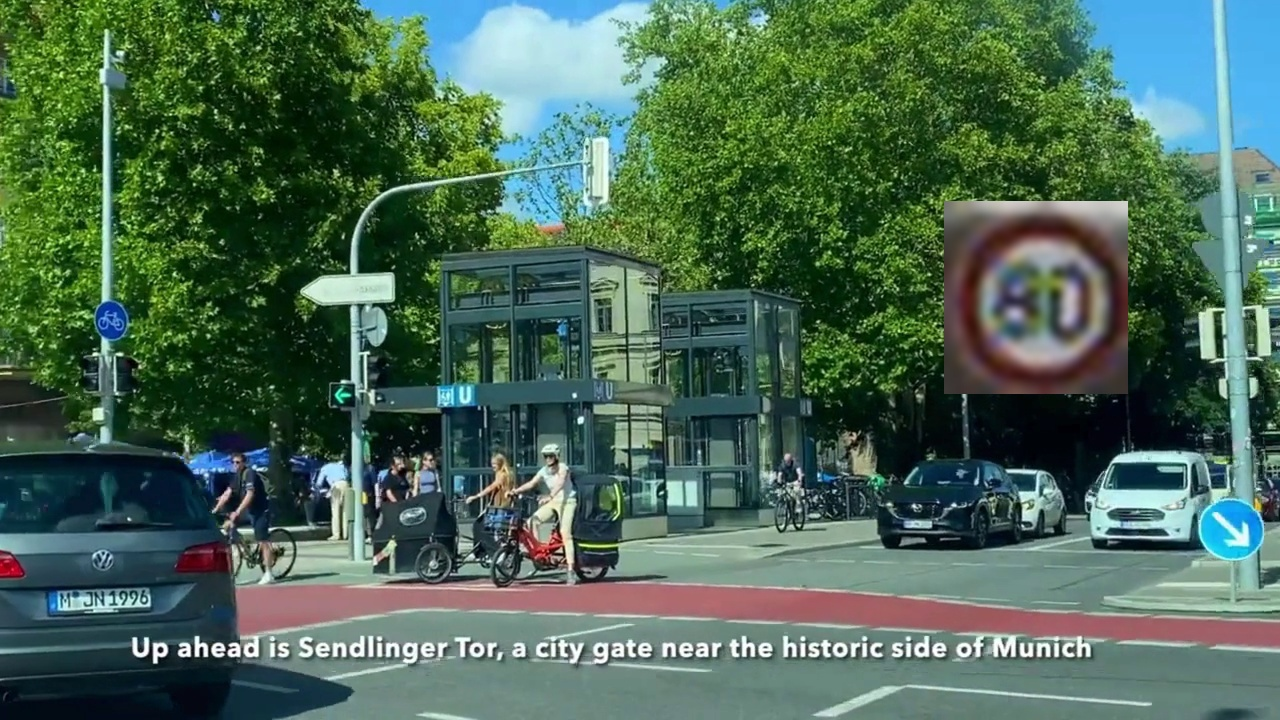Speed 80: (944, 201, 1128, 394)
